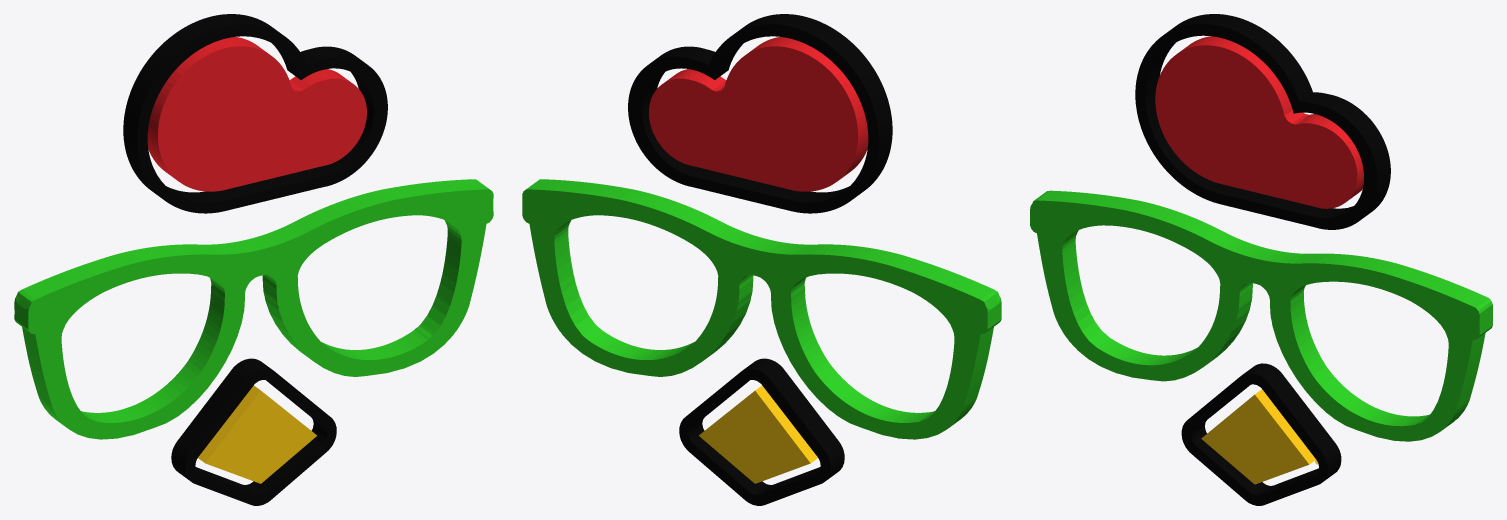
The model's file is Chick.fbx.
3 renders of one model, left to right at view 1: azimuth 30°, elevation 25°; view 2: azimuth 150°, elevation 25°; view 3: azimuth 330°, elevation 25°, orthographic. The views are drawn at different scales.
Parts seen in each view (by area): view 1: Curve.006; view 2: Curve.006; view 3: Curve.006.
Boxes of the visible parts, bbox=[...] form: Curve.006: bbox=[14, 14, 493, 505]; Curve.006: bbox=[522, 14, 1001, 505]; Curve.006: bbox=[1030, 14, 1492, 505].
Bounding box in the file's own units: 102 × 102 × 5.27.
